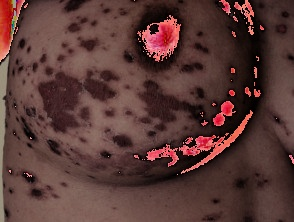SJS-TEN: (1, 0, 294, 222)
